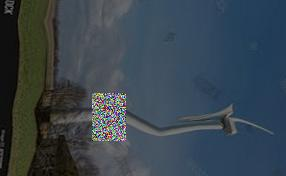faulty: (147, 107, 258, 137)
